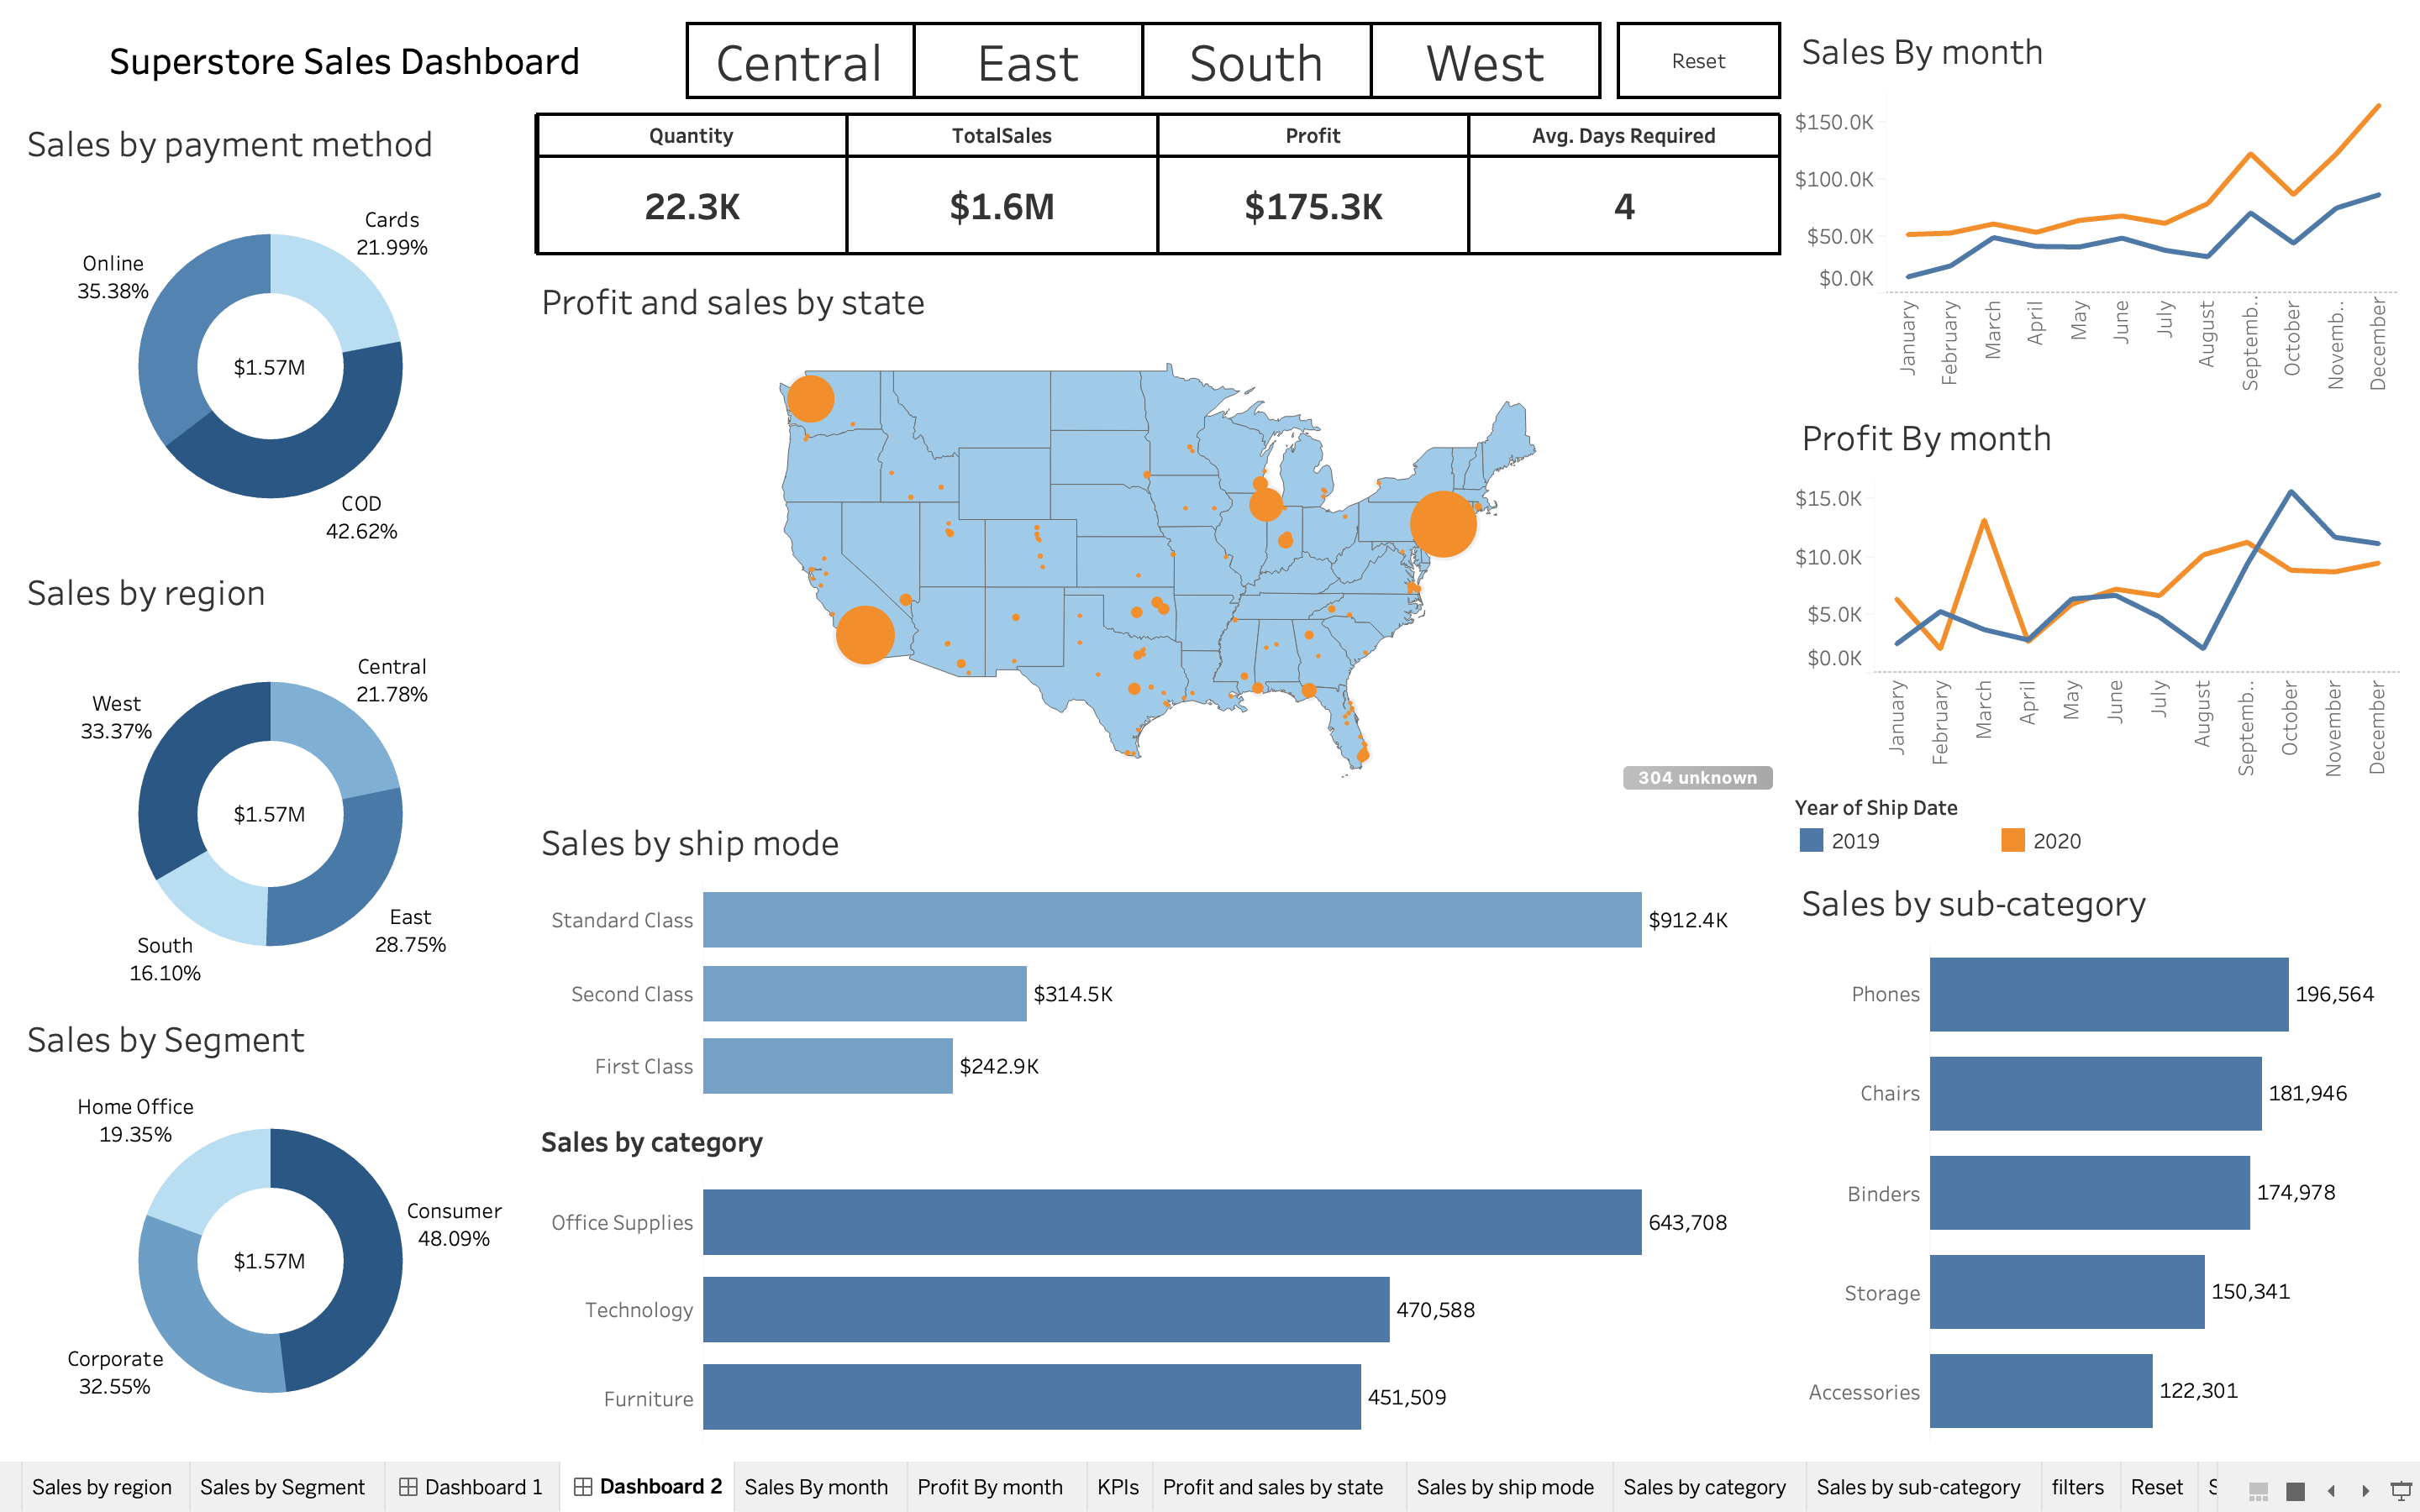

The page's visual inventory and layout, read from the dashboard file:
{"tool":"tableau","page":{"name":"Dashboard 2","canvas":[1000,1000],"units":"permille","ordinal":1},"visuals":[{"type":"text","box":[6.5,9.9,257,63]},{"type":"worksheet","title":"filters","mark":"Automatic","cols":["Region"],"box":[263.5,9.9,360.9,63]},{"type":"worksheet","title":"Reset","mark":"Automatic","box":[624.4,9.9,69.6,63]},{"type":"worksheet","title":"Sales By month","mark":"Line","rows":["Sales"],"cols":["Ship Date"],"box":[694.1,9.9,299.4,284.7]},{"type":"worksheet","title":"KPIs","mark":"Automatic","box":[205.9,72.9,488.2,116.3]},{"type":"worksheet","title":"Sales by payment method","mark":"Pie","rows":["Calculation_279293583182913540","Calculation_279293583182913540"],"box":[6.5,73,199.3,305.7]},{"type":"worksheet","title":"Profit and sales by state","mark":"Automatic","box":[205.9,189.2,488.2,398.5]},{"type":"worksheet","title":"Profit By month ","mark":"Line","rows":["Profit"],"cols":["Ship Date"],"box":[694.1,294.6,299.4,284.7]},{"type":"worksheet","title":"Sales by region","mark":"Pie","rows":["Calculation_279293583182913540","Calculation_279293583182913540"],"box":[6.5,378.7,199.3,305.7]},{"type":"legend","title":"Profit By month ","param":"[federated.0ckfbrr00ud8dm12yvisb0eua2ul].[yr:Ship Date:ok]","box":[694.1,579.2,299.4,58.2]},{"type":"worksheet","title":"Sales by ship mode","mark":"Automatic","rows":["Ship Mode"],"cols":["Sales"],"box":[205.9,587.7,488.2,224]},{"type":"worksheet","title":"Sales by sub-category","mark":"Automatic","rows":["Sub-Category"],"cols":["Sales"],"box":[694.1,637.4,299.4,352.7]},{"type":"worksheet","title":"Sales by Segment","mark":"Pie","rows":["Calculation_279293583182913540","Calculation_279293583182913540"],"box":[6.5,684.4,199.3,305.7]},{"type":"worksheet","title":"Sales by category","mark":"Automatic","rows":["Category"],"cols":["Sales"],"box":[205.9,811.8,488.2,178.3]}]}

Visuals, with their boxes on the dashboard's canvas, which has no fixed pixel size, in thousandths of its width and height (x1, y1, x2, y2). These are canvas units, not pixel positions in the 2420x1512 screenshot, which may show the page scaled, cropped or inside an application window:
text: 6/10/264/73
"filters" worksheet: 264/10/624/73
"Reset" worksheet: 624/10/694/73
"Sales By month" worksheet (Line marks): 694/10/994/295
"KPIs" worksheet: 206/73/694/189
"Sales by payment method" worksheet (Pie marks): 6/73/206/379
"Profit and sales by state" worksheet: 206/189/694/588
"Profit By month " worksheet (Line marks): 694/295/994/579
"Sales by region" worksheet (Pie marks): 6/379/206/684
"Profit By month " legend: 694/579/994/637
"Sales by ship mode" worksheet: 206/588/694/812
"Sales by sub-category" worksheet: 694/637/994/990
"Sales by Segment" worksheet (Pie marks): 6/684/206/990
"Sales by category" worksheet: 206/812/694/990
